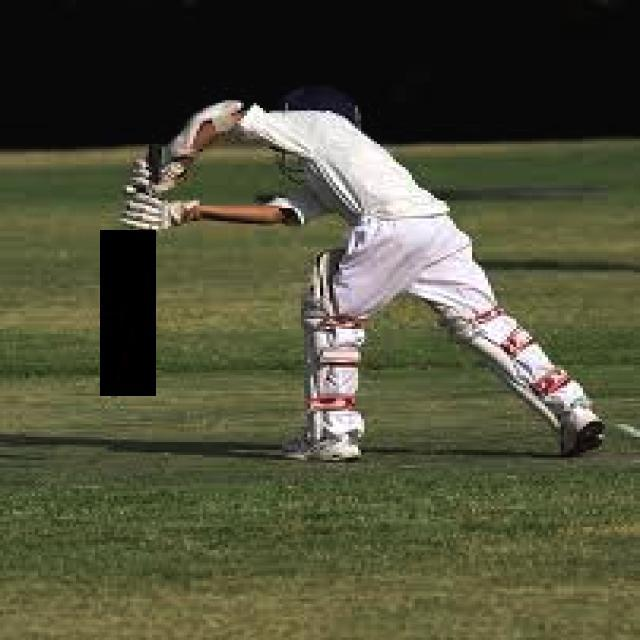bat: (94, 229, 165, 407)
toe: (75, 375, 147, 401)
